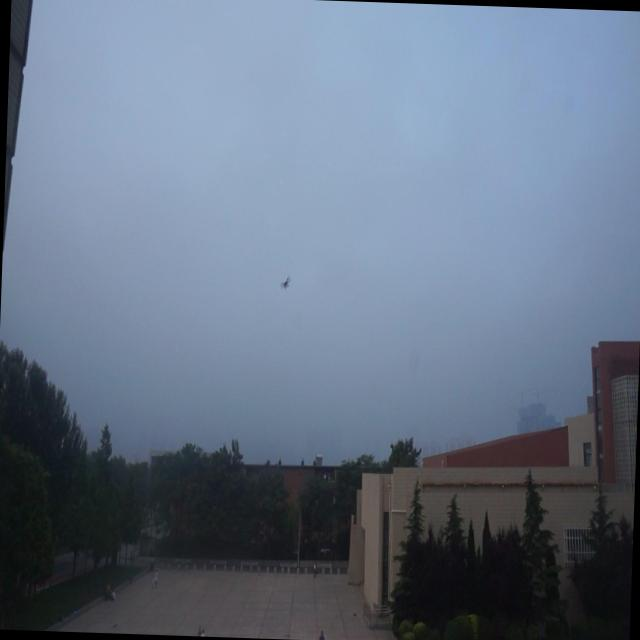drone: (280, 273, 292, 291)
